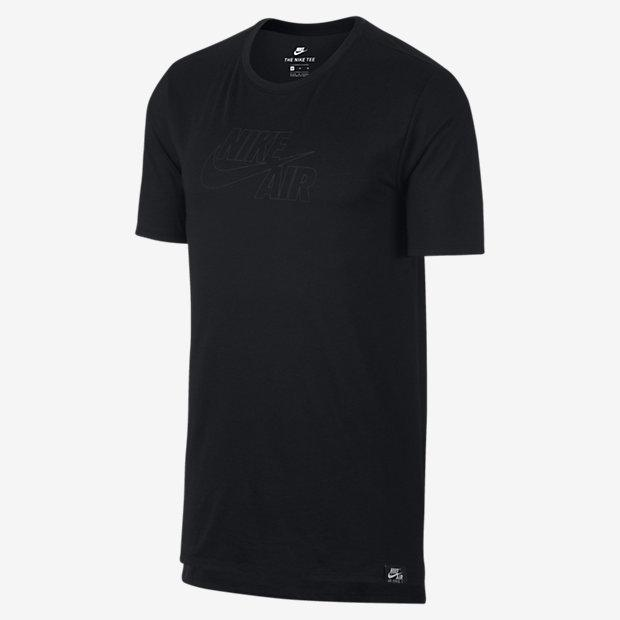teeshirt: (121, 11, 529, 620)
